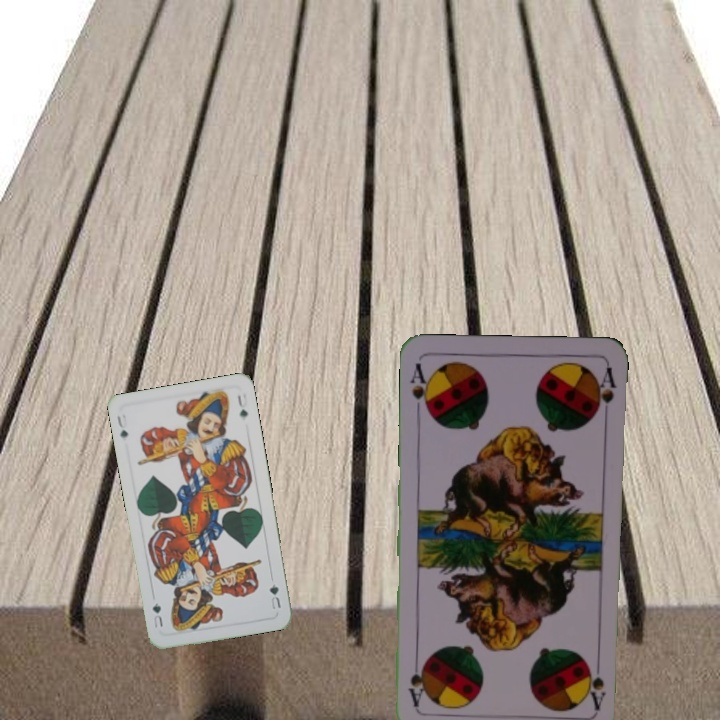GU: (265, 580, 283, 612), (113, 410, 130, 441)
SA: (406, 359, 433, 418), (587, 652, 608, 711)
